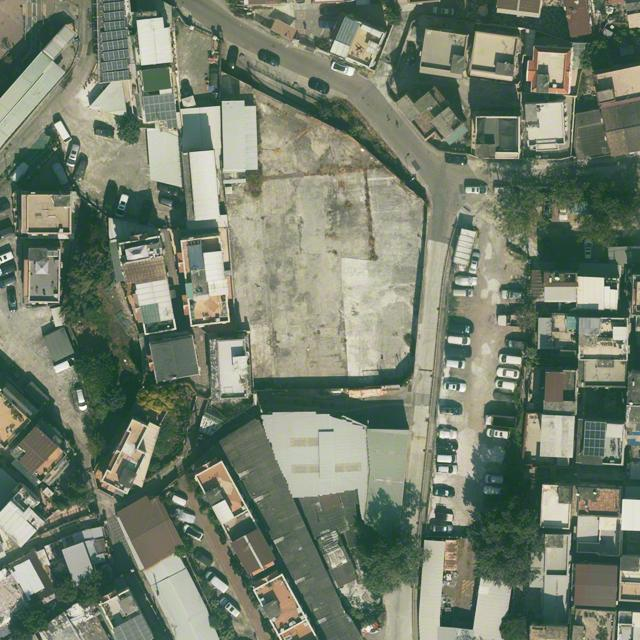SolarPanel: (143, 93, 176, 123), (111, 614, 146, 638), (583, 421, 606, 455), (101, 70, 131, 82), (100, 39, 130, 51), (103, 49, 130, 62), (101, 60, 128, 72), (100, 30, 127, 42), (102, 10, 125, 21), (103, 1, 125, 12), (104, 21, 126, 32), (165, 118, 178, 131)
